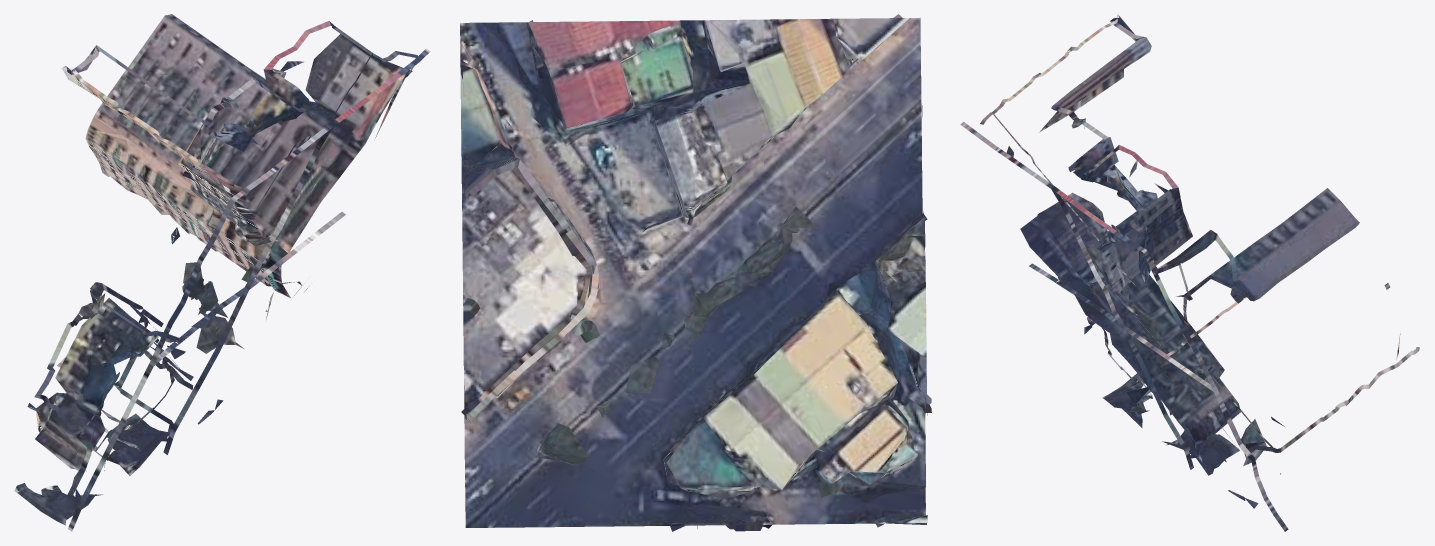
The picture shows the model from 3 angles, left to right: view 1: azimuth 30°, elevation 25°; view 2: azimuth 150°, elevation 25°; view 3: azimuth 270°, elevation 25°; orthographic projection. The views are drawn at different scales.
Size of the model in its own units: 81.65 by 85.55 by 90.63.
Materials: 1 (1 with a texture image).
